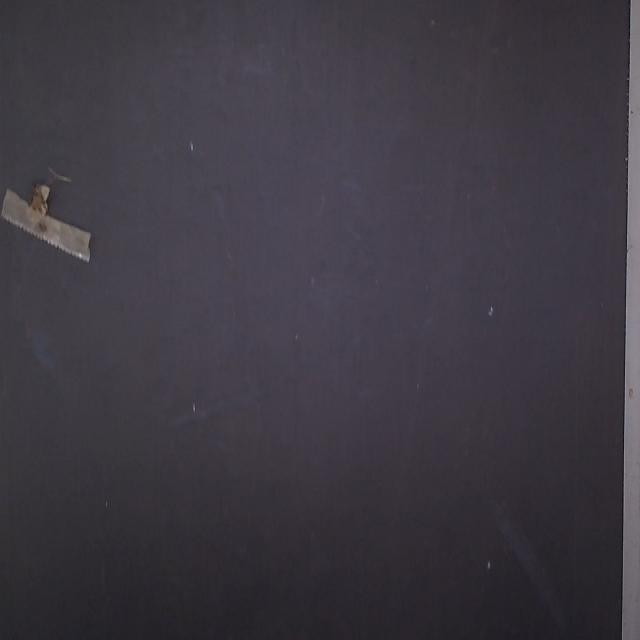plastic_films: (5, 173, 99, 270)
